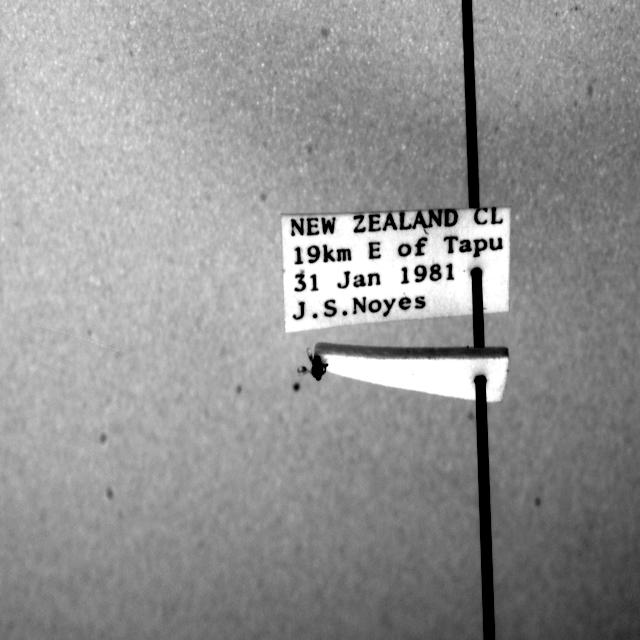typed_label: (281, 208, 510, 332)
